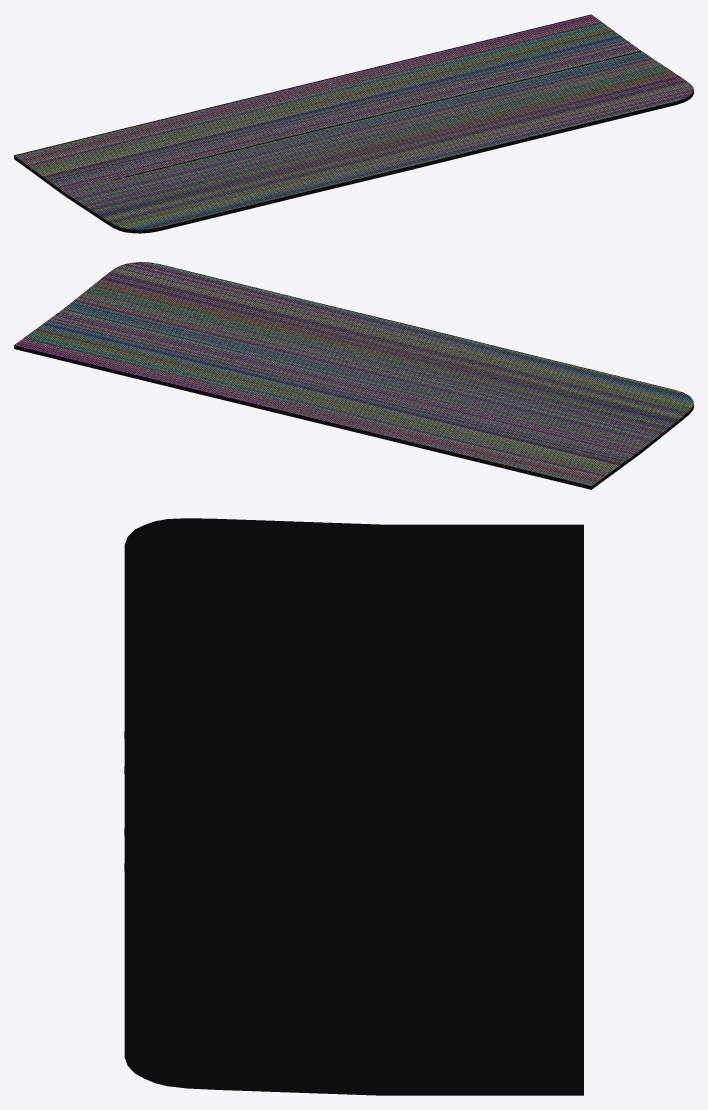
File: Grass_Goal.gltf
The picture shows the model from 3 angles, top to bottom: view 1: azimuth 30°, elevation 25°; view 2: azimuth 150°, elevation 25°; view 3: azimuth 270°, elevation 25°; orthographic projection. The views are drawn at different scales.
Visible parts, largest first — view 1: Grass_Goal; view 2: Grass_Goal; view 3: Grass_Goal.
Part boxes in pixels (left/top/right/bottom): Grass_Goal: left=14, top=14, right=693, bottom=233; Grass_Goal: left=14, top=262, right=693, bottom=489; Grass_Goal: left=124, top=518, right=583, bottom=1095.
Size of the model in its own units: 12.8 by 0.1764 by 4.42.
